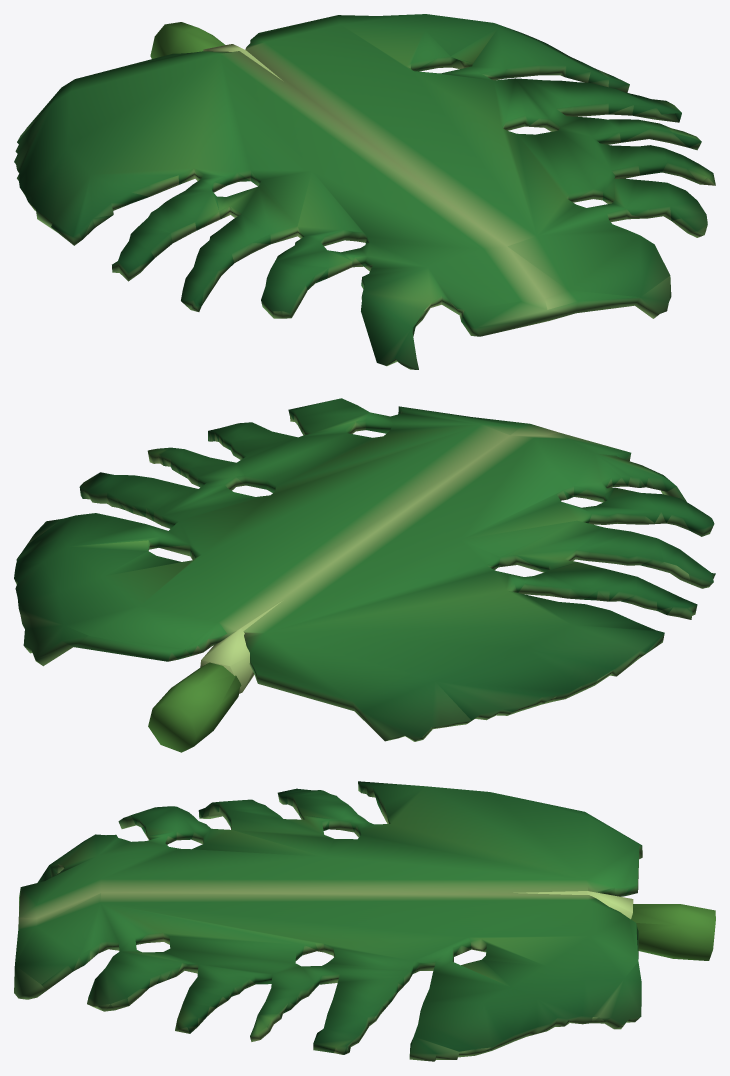
File: canopy_monstera_leaf_lod2.glb
The picture shows the model from 3 angles, top to bottom: view 1: azimuth 30°, elevation 25°; view 2: azimuth 150°, elevation 25°; view 3: azimuth 270°, elevation 25°; orthographic projection. The views are drawn at different scales.
Visible parts, largest first — view 1: canopy_monstera_leaf.001; view 2: canopy_monstera_leaf.001; view 3: canopy_monstera_leaf.001.
Boxes of the visible parts, x1,y1,x2,y2 form: canopy_monstera_leaf.001: (14, 14, 715, 369); canopy_monstera_leaf.001: (14, 398, 715, 752); canopy_monstera_leaf.001: (14, 781, 715, 1061).
Size of the model in its own units: 11.02 by 1.32 by 12.4.
